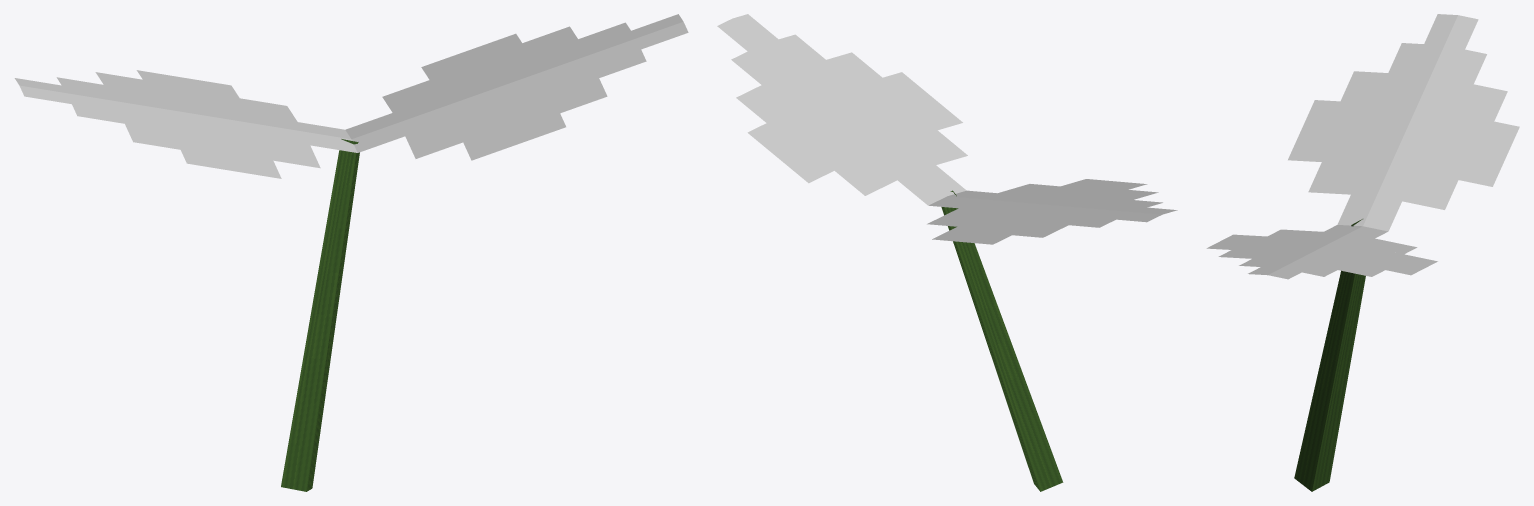
Rendered from plant_0_1_0.obj.
3 renders of one model, left to right at view 1: azimuth 30°, elevation 25°; view 2: azimuth 150°, elevation 25°; view 3: azimuth 270°, elevation 25°, orthographic. The views are drawn at different scales.
Parts seen in each view (by area): view 1: model; view 2: model; view 3: model.
Part boxes in pixels (<box>): model: <box>14,14,688,491</box>; model: <box>717,14,1177,491</box>; model: <box>1206,14,1519,491</box>.
Size of the model in its own units: 0.2194 by 0.1454 by 0.1096.
